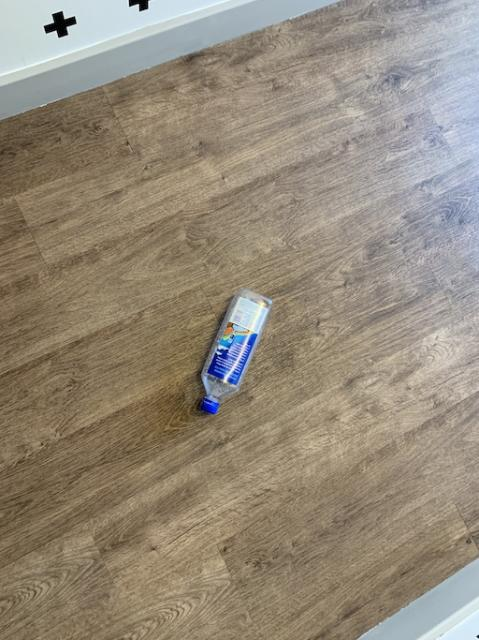plastic: (201, 288, 271, 412)
